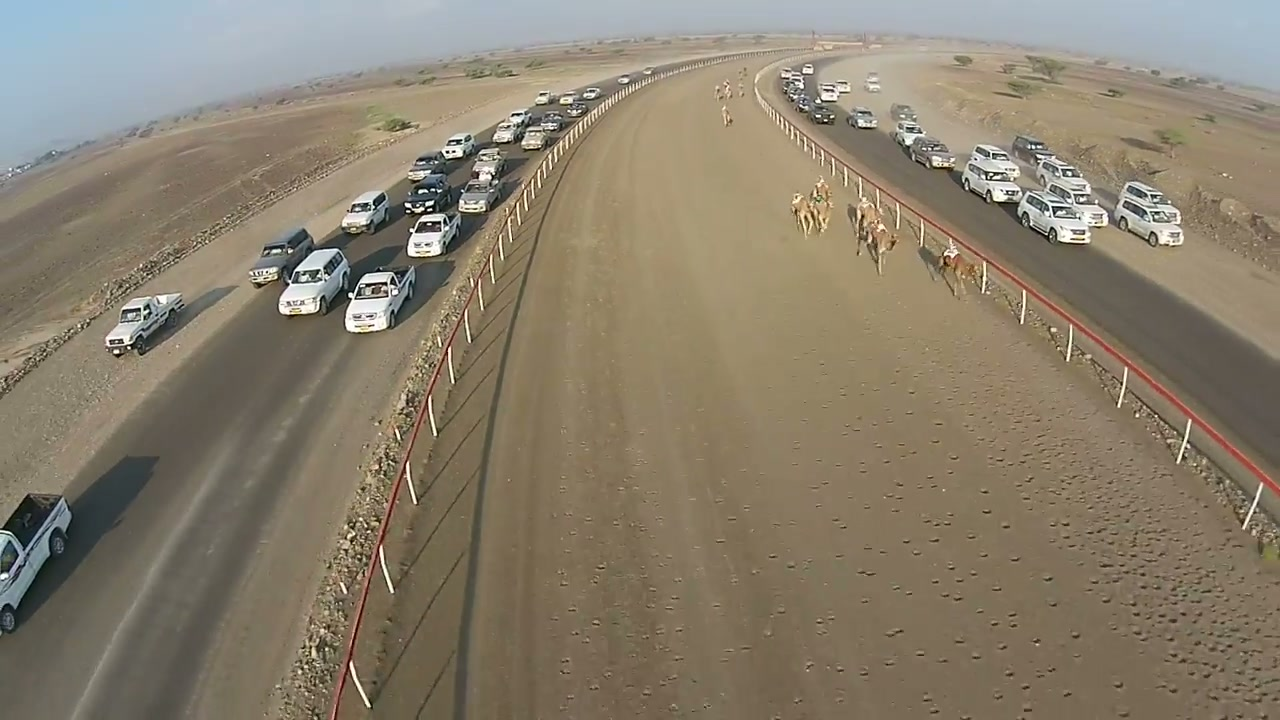animal_footprint: (824, 244, 1279, 709)
